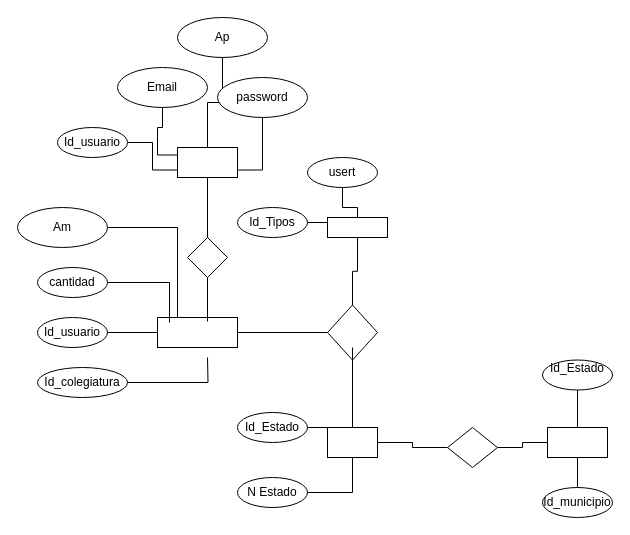
This 630x535 diagram has some shape labels left out. The shapes that lost their labels are listed below. From the top down, each one's box as (x1, y1, x2, y2) in pixels, then its label:
(176, 146, 238, 178): usuario
(326, 216, 388, 238): User
(156, 316, 238, 348): Colegiatura
(326, 426, 378, 458): Estado
(546, 426, 608, 458): Municipio
